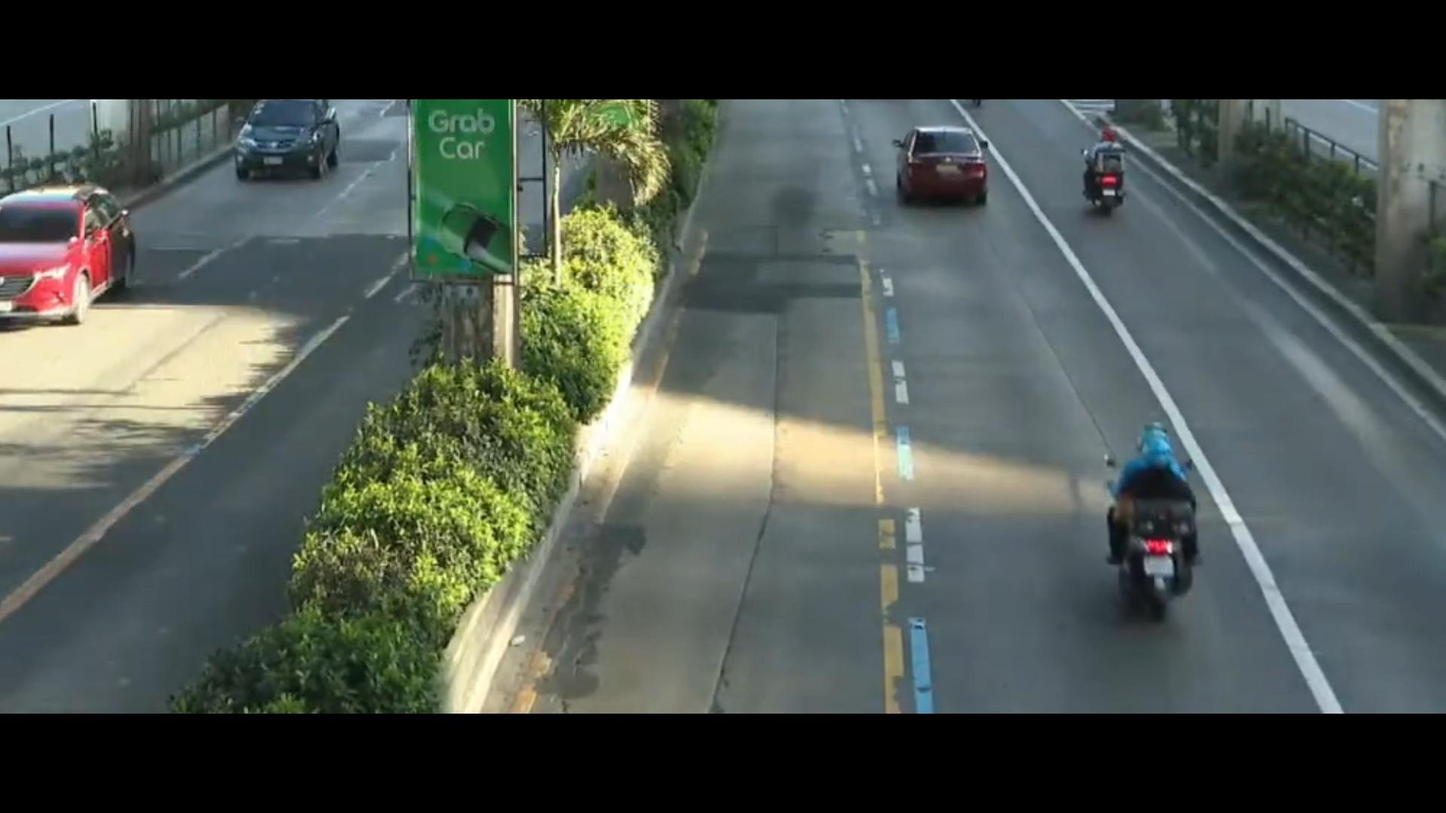Motorcycle: (1090, 412, 1202, 633), (1052, 126, 1148, 232)
SUV: (221, 101, 360, 189)
Sedan: (0, 171, 161, 334), (875, 131, 1007, 234)
